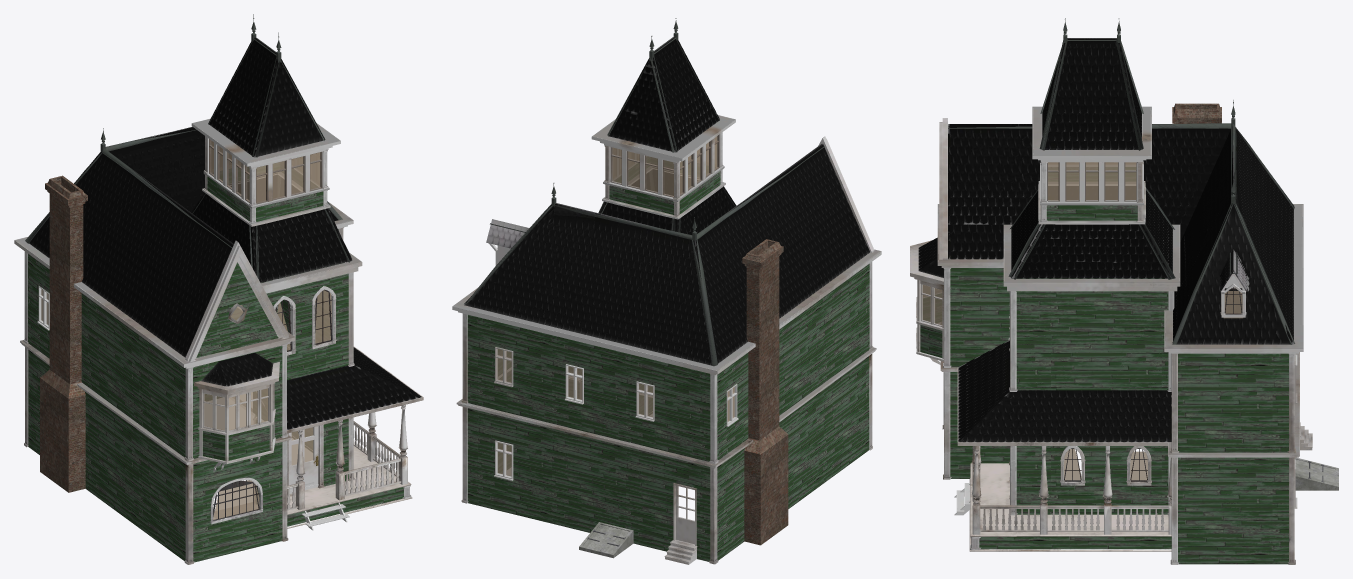
The model's file is victorian_house.glb.
3 views of the same model, side by side, from view 1: azimuth 30°, elevation 25°; view 2: azimuth 150°, elevation 25°; view 3: azimuth 270°, elevation 25° (orthographic). The views are drawn at different scales.
Parts seen in each view (by area): view 1: defaultMaterial (×14); view 2: defaultMaterial (×11); view 3: defaultMaterial (×17).
Part boxes in pixels (x1,y1,x2,y2): defaultMaterial (×14): [14, 14, 423, 564]; defaultMaterial (×11): [452, 18, 881, 564]; defaultMaterial (×17): [910, 18, 1338, 564].
Bounding box in the file's own units: 1.3 × 2 × 1.58.
19 materials, 17 textured.
